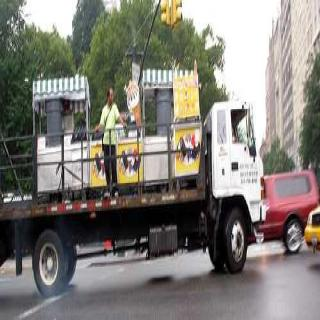Towing_truck: (2, 59, 266, 295)
